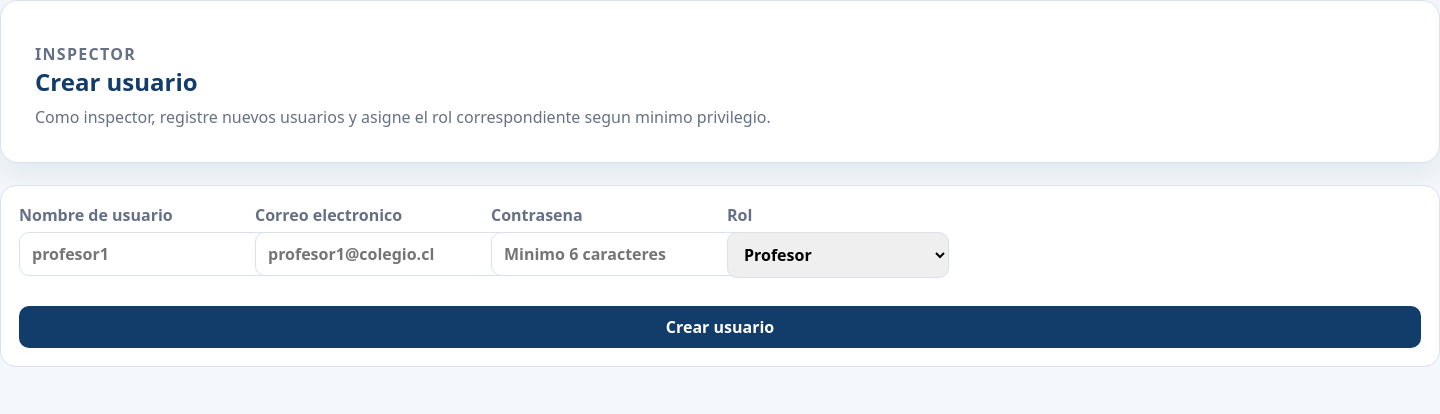
it: CrearUsuario › valida campos obligatorios al crear profesor
Expected: the heading "Crear usuario" is shown, [35,65,198,98]
Click the button "Crear usuario" at x=720, y=327, box [19,306,1421,348]
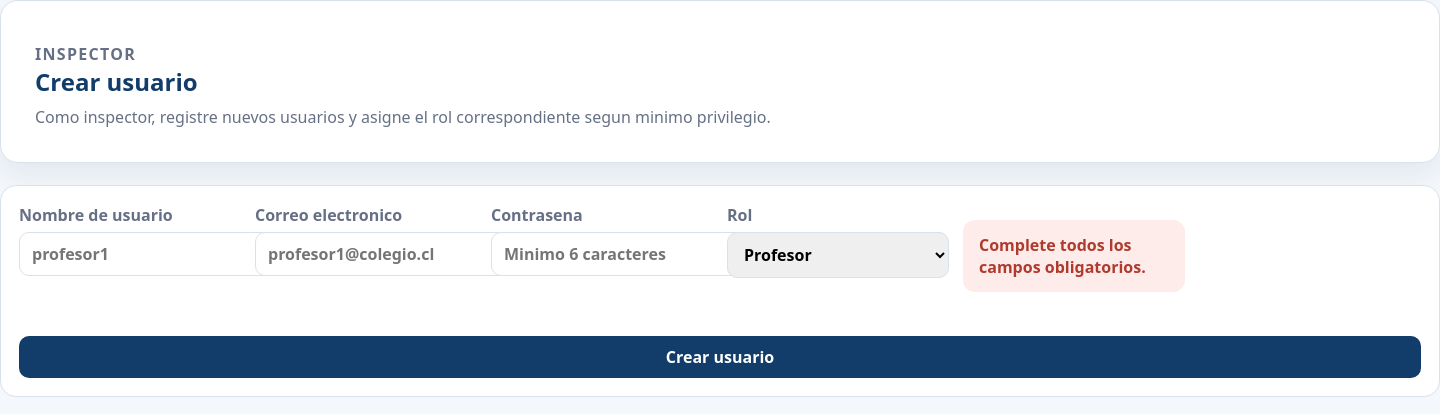
Now the text "Complete todos los campos obligatorios." is shown, box [963,220,1185,292]
